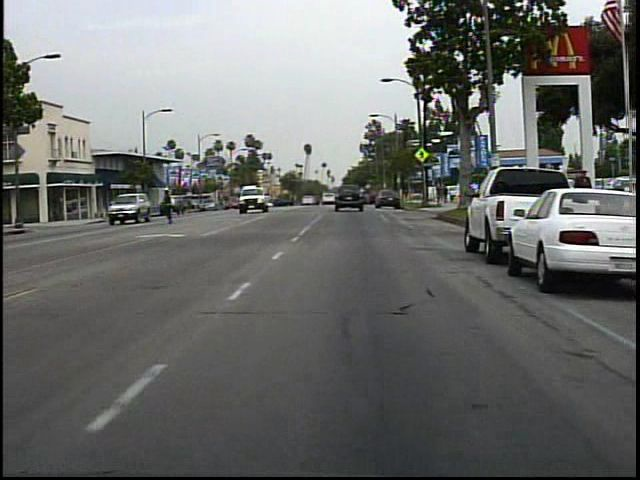person: (568, 165, 595, 227), (158, 185, 183, 227)
